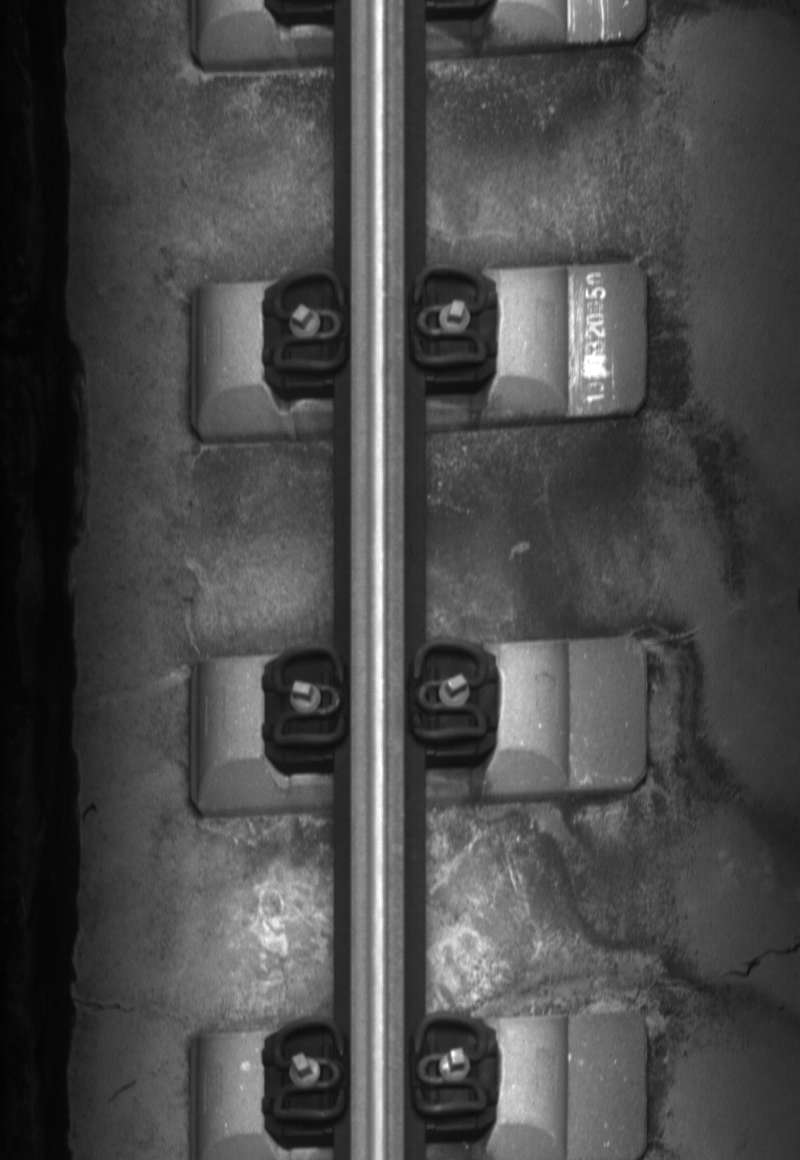l_faster: (266, 262, 351, 379), (265, 1012, 350, 1126), (266, 640, 350, 751)
r_faster: (407, 637, 493, 748), (407, 259, 491, 372), (410, 1010, 490, 1119)
